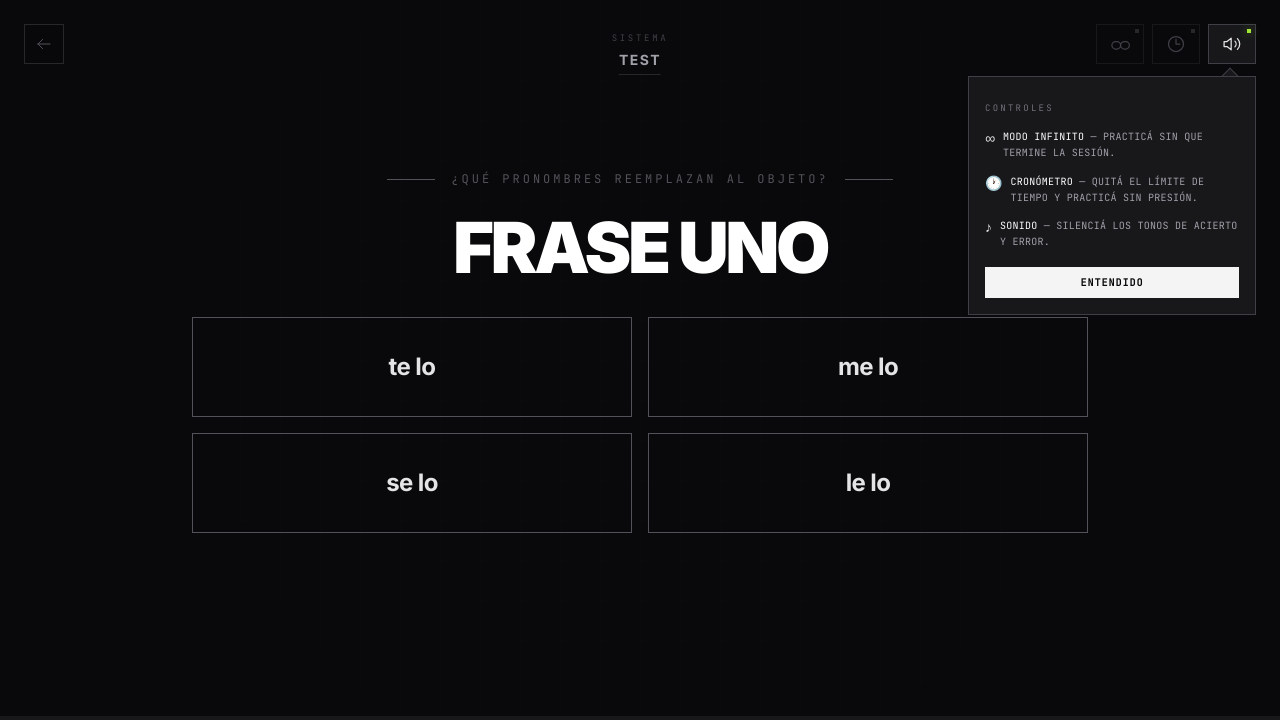
Scenario: ExerciseSession › un fallo muestra CONTINUAR y salta la espera de 5 s
Click the button "le lo".
click(868, 483)  # box [648,433,1088,533]
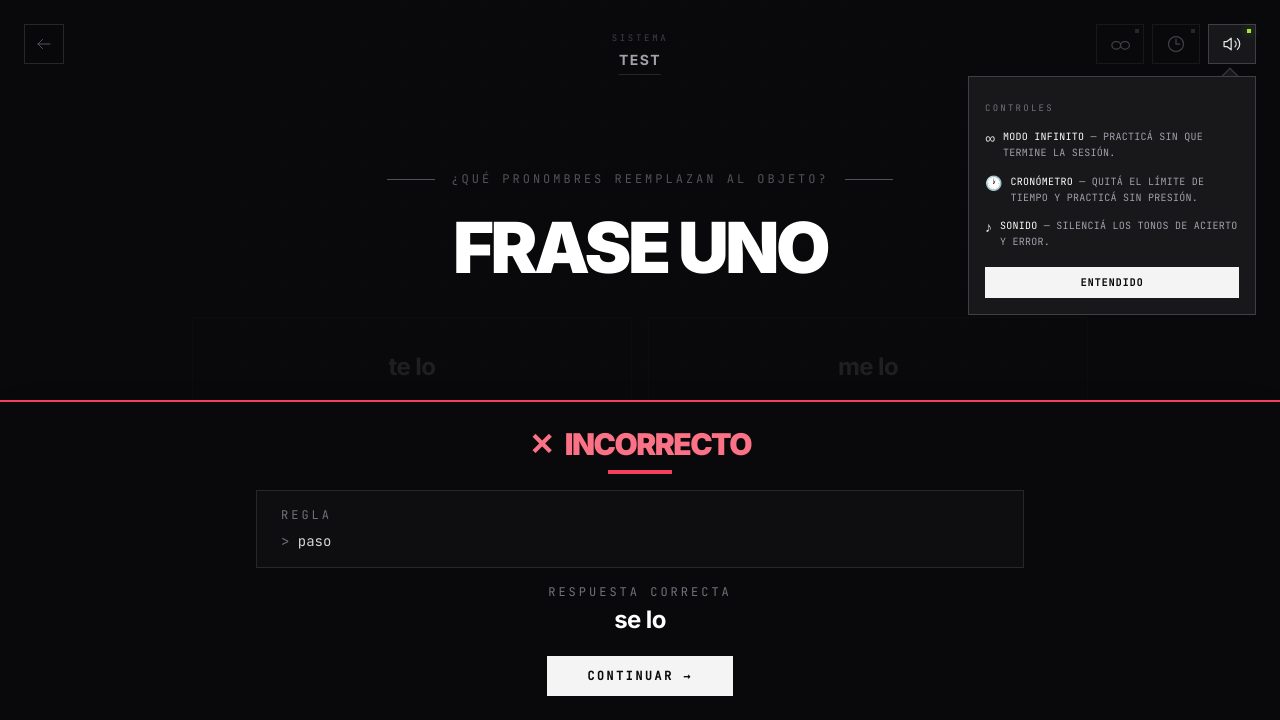
Click the button "CONTINUAR →".
click(640, 676)  # box [547,656,733,696]
Wait 300 ms
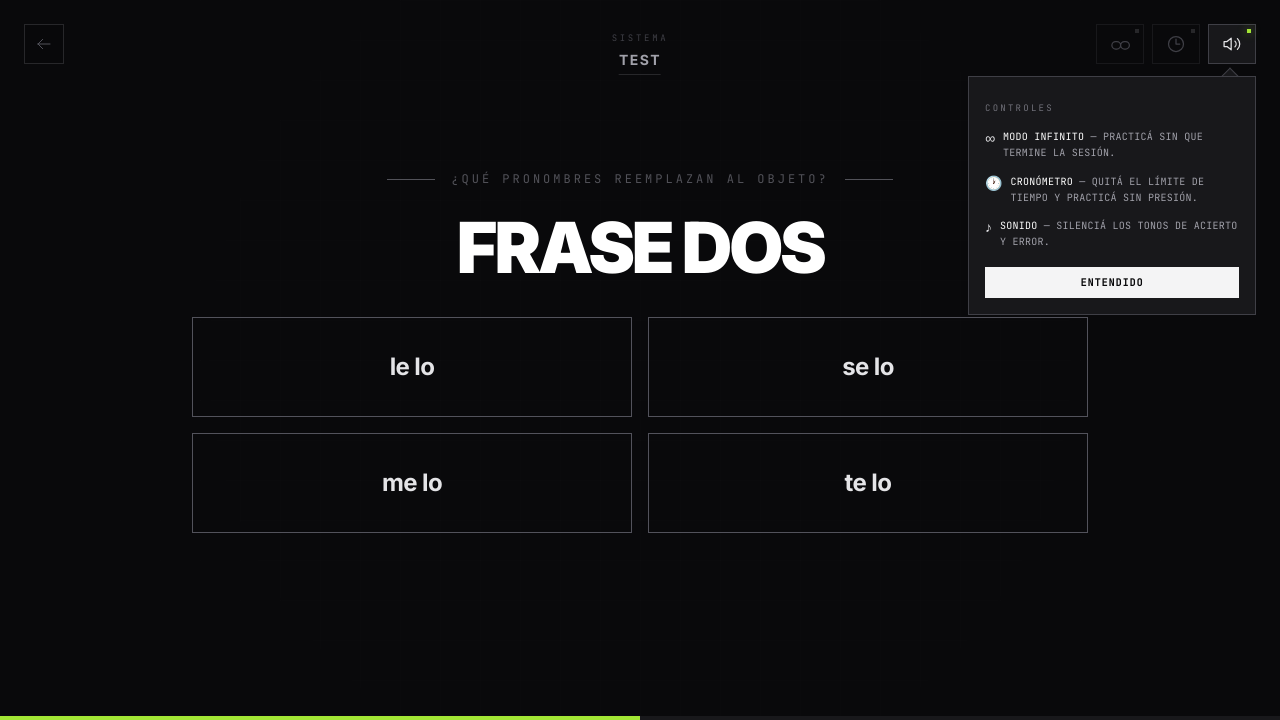
expect the heading "FRASE DOS" is shown: met, box [457,211,823,285]
